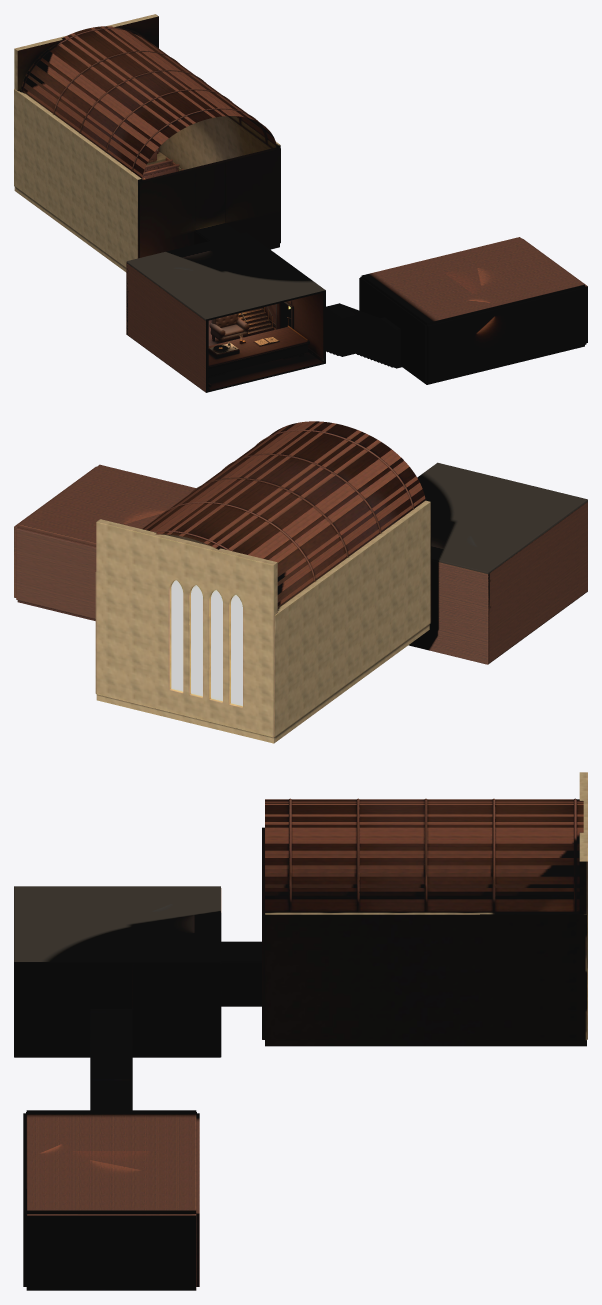
Rendered from connected-realms.glb.
3 views of the same model, one above another, from view 1: azimuth 30°, elevation 25°; view 2: azimuth 150°, elevation 25°; view 3: azimuth 270°, elevation 25° (orthographic). The views are drawn at different scales.
Visible parts, largest first — view 1: 01 · 教堂 Heaven, 03 · 酒吧 Hell, 02 · 书房 Earth, 04 · 楼梯与通道 Connections; view 2: 01 · 教堂 Heaven, 02 · 书房 Earth, 03 · 酒吧 Hell; view 3: 01 · 教堂 Heaven, 03 · 酒吧 Hell, 04 · 楼梯与通道 Connections, 02 · 书房 Earth.
Boxes of the visible parts, box(x1,y1,x2,y2) form: 01 · 教堂 Heaven: box(14, 14, 280, 272); 03 · 酒吧 Hell: box(359, 237, 587, 384); 02 · 书房 Earth: box(126, 223, 325, 392); 04 · 楼梯与通道 Connections: box(238, 291, 402, 368); 01 · 教堂 Heaven: box(95, 421, 431, 743); 02 · 书房 Earth: box(408, 462, 587, 664); 03 · 酒吧 Hell: box(14, 464, 196, 620); 01 · 教堂 Heaven: box(262, 772, 587, 1046); 03 · 酒吧 Hell: box(23, 1110, 199, 1290); 04 · 楼梯与通道 Connections: box(14, 964, 220, 1110); 02 · 书房 Earth: box(14, 886, 261, 1057).
Bounding box in the file's own units: 34.22 × 19.5 × 33.85.
6 materials, 6 textured.
